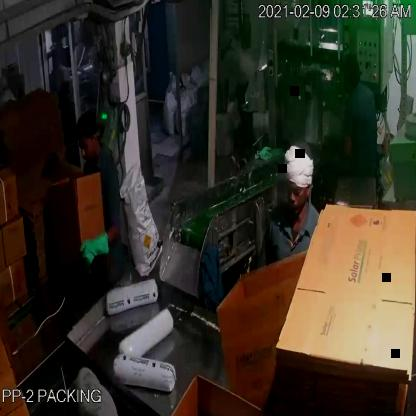glove: (76, 224, 117, 272)
